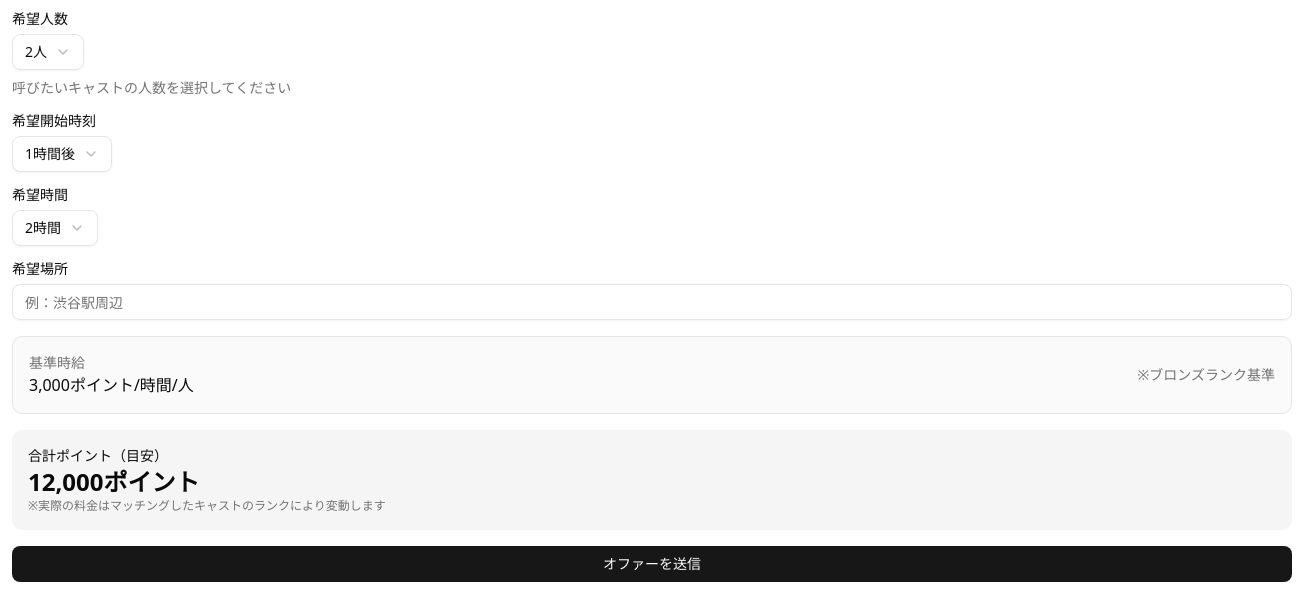
GroupMatchingOfferForm › 人数選択 › 人数を変更すると合計ポイントが再計算される
This screenshot has width=1304, height=599.
Expected: the text "12,000ポイント" is shown, x1=28 y1=465 x2=200 y2=498
Click the dropdown labelled "2人": (48, 52) x1=12 y1=34 x2=84 y2=70
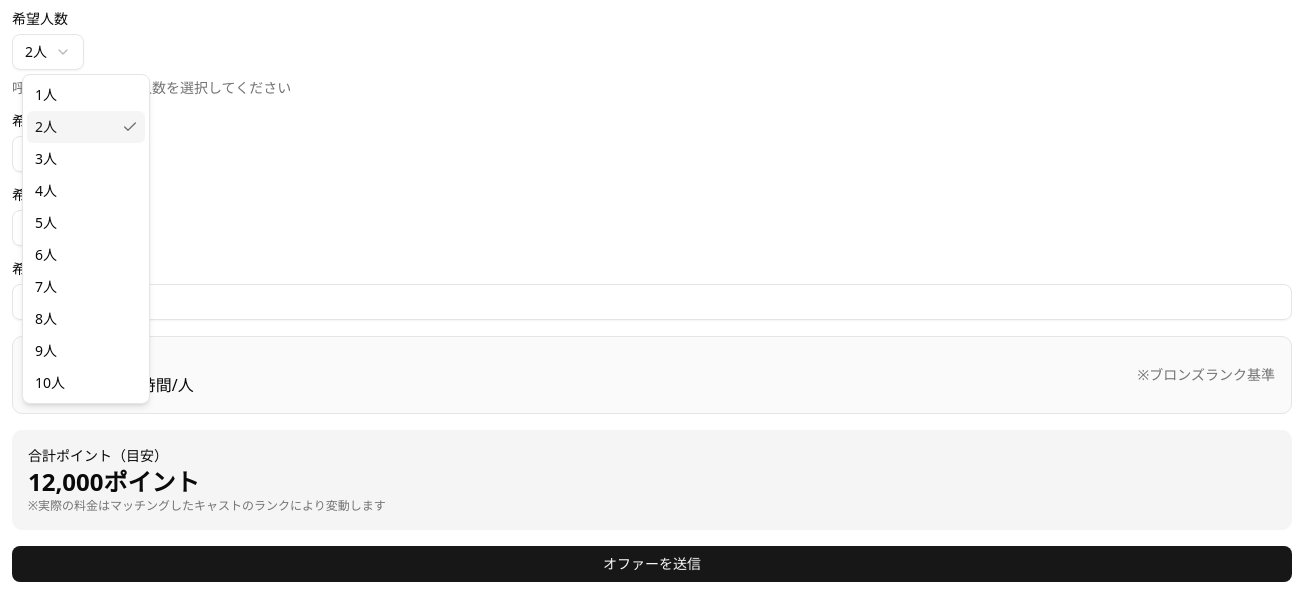
Click the option "5人": (46, 222) x1=35 y1=213 x2=57 y2=232
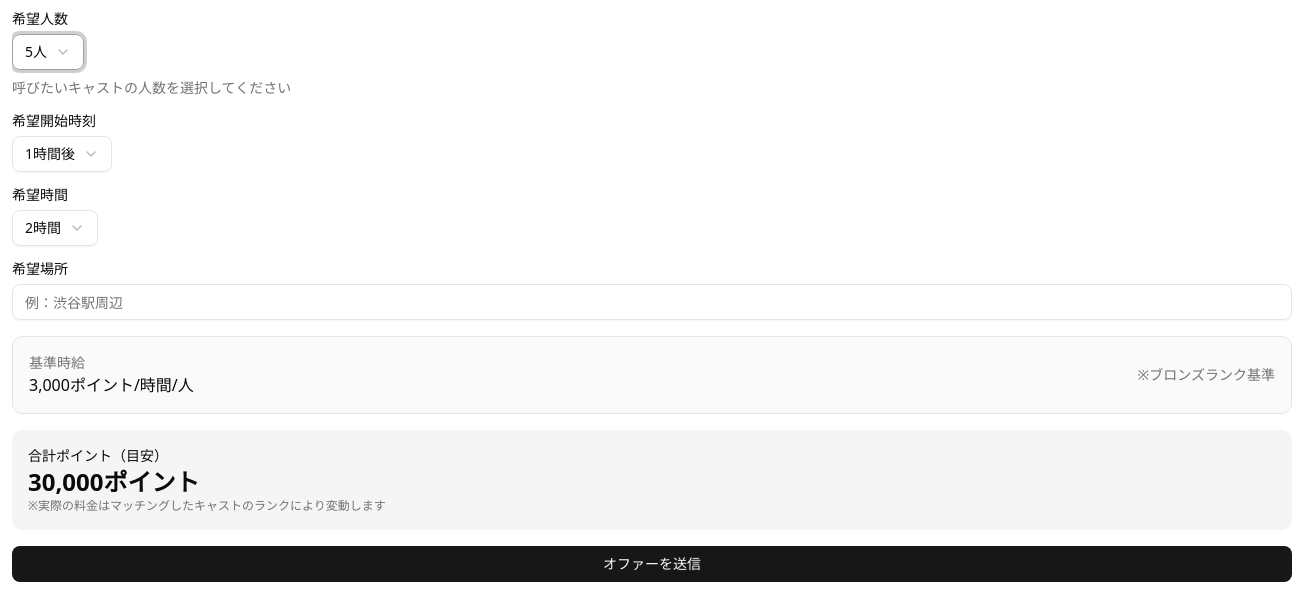
Now the text "30,000ポイント" is shown, box x1=28 y1=465 x2=200 y2=498
